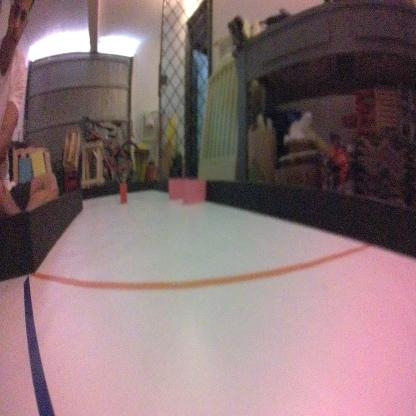magenta: (181, 174, 204, 208), (167, 175, 188, 200)
red: (118, 178, 127, 204)
